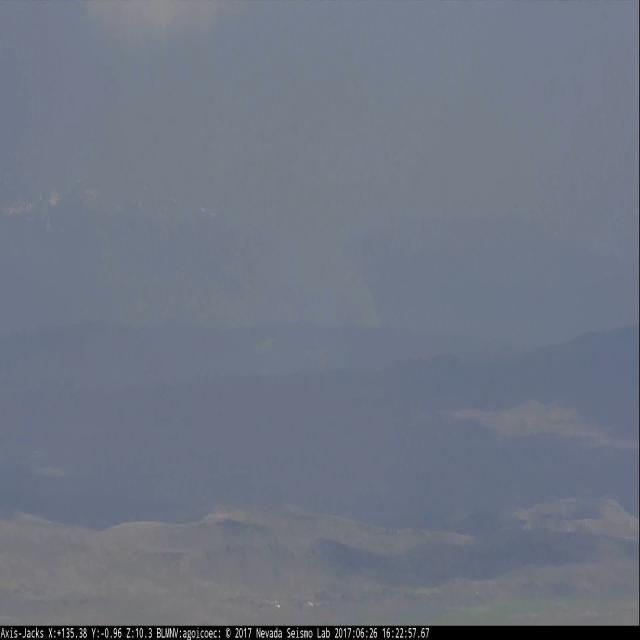smoke: (277, 237, 382, 322)
